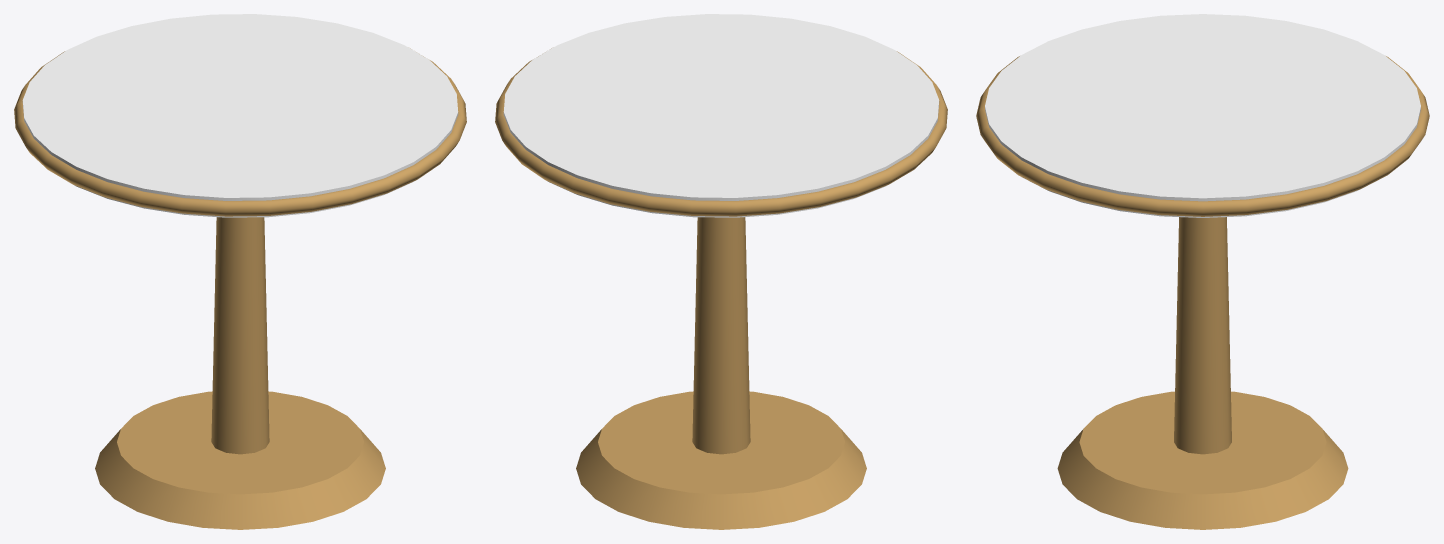
The model's file is side_table.glb.
The picture shows the model from 3 angles, left to right: view 1: azimuth 30°, elevation 25°; view 2: azimuth 150°, elevation 25°; view 3: azimuth 270°, elevation 25°; orthographic projection.
Parts seen in each view (by area): view 1: Mesh_Top, Mesh_Base, Mesh_Stem, Mesh_Edge; view 2: Mesh_Top, Mesh_Base, Mesh_Stem, Mesh_Edge; view 3: Mesh_Top, Mesh_Base, Mesh_Stem, Mesh_Edge.
Boxes of the visible parts, x1,y1,x2,y2 form: Mesh_Top: (22,14,458,217); Mesh_Base: (95,391,385,529); Mesh_Stem: (211,217,269,454); Mesh_Edge: (14,48,466,216); Mesh_Top: (503,14,939,217); Mesh_Base: (576,391,866,529); Mesh_Stem: (692,217,750,454); Mesh_Edge: (495,48,947,216); Mesh_Top: (985,14,1420,217); Mesh_Base: (1057,391,1348,529); Mesh_Stem: (1174,217,1231,454); Mesh_Edge: (976,56,1429,216).
Size of the model in its own units: 0.624 by 0.55 by 0.624.
